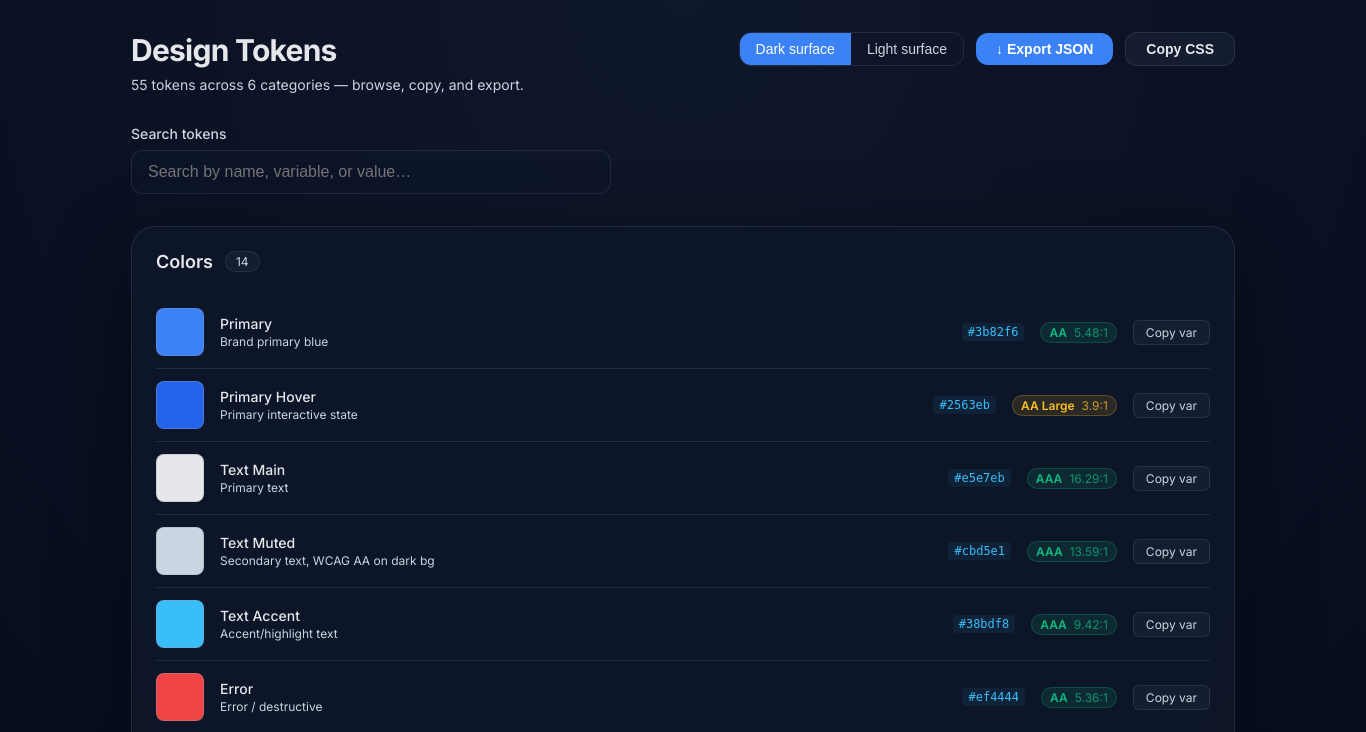
Test: DesignTokensPage › search clears results when input cleared
The image size is (1366, 732).
Step 1. Type "primary" into the search field → {"x": 371, "y": 172}, box [131,150,611,194]
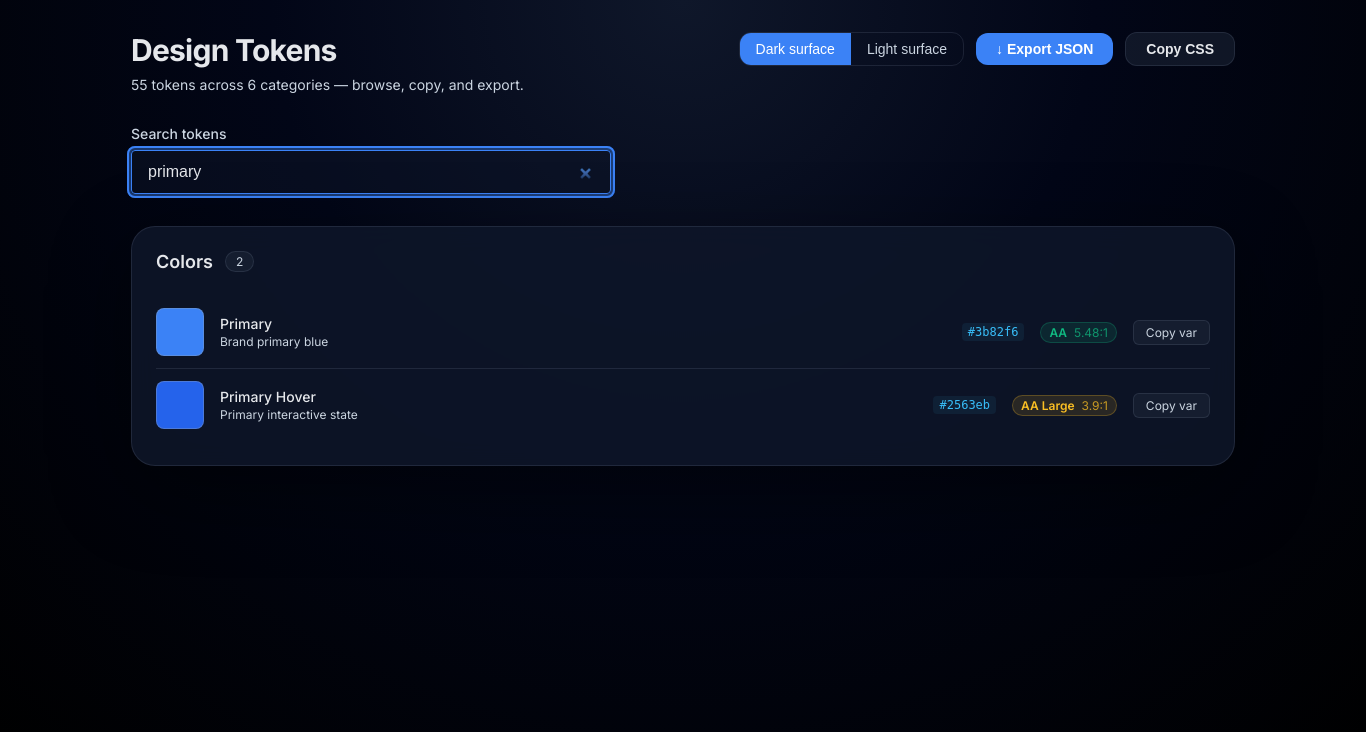
Step 2. Clear the search field → {"x": 371, "y": 172}, box [131,150,611,194]
(page scrolled)
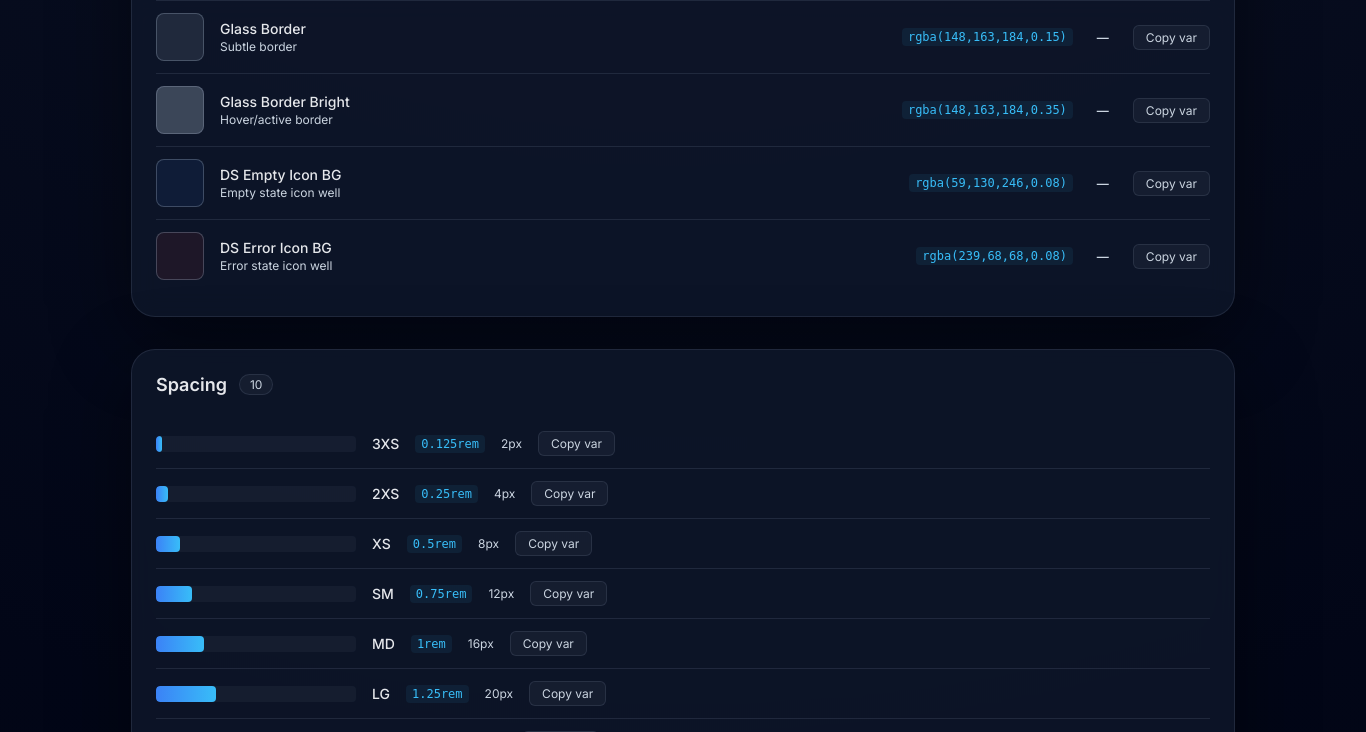
Expected: the heading "Spacing 10" is shown, [156,374,273,395]
